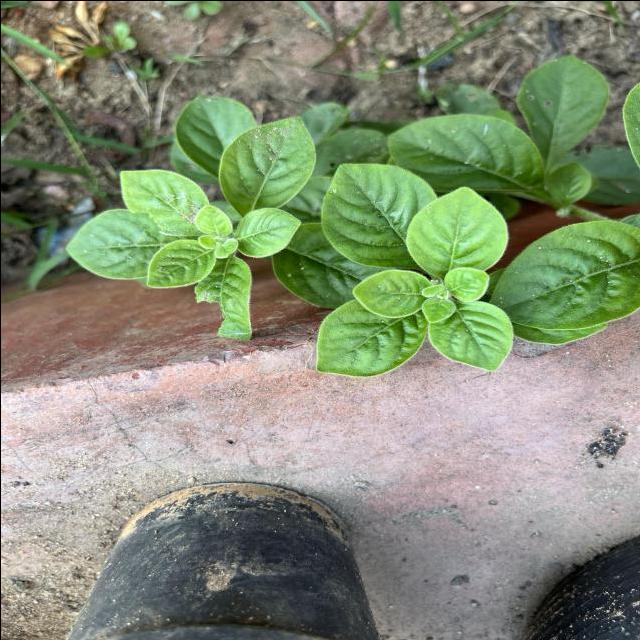Aerva lanata: (316, 160, 438, 270), (215, 113, 318, 214), (402, 182, 510, 278), (312, 296, 430, 378), (424, 298, 516, 374), (350, 266, 434, 319), (142, 237, 219, 290), (230, 204, 304, 259)
